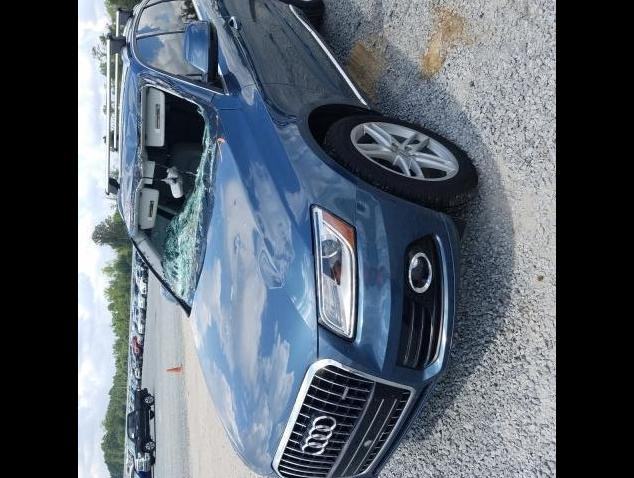Broken part: (131, 74, 218, 313)
Dent: (120, 65, 138, 234), (135, 65, 179, 87)
Scratch: (217, 142, 222, 162), (217, 136, 226, 142)
